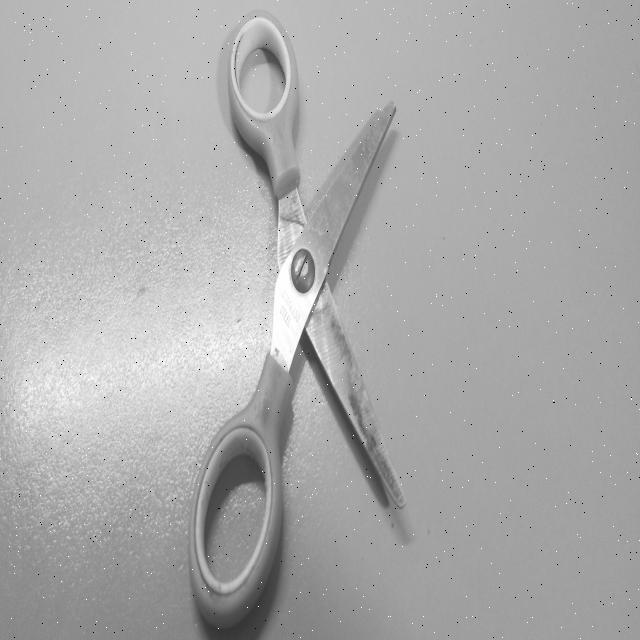scissors: (184, 1, 414, 634)
